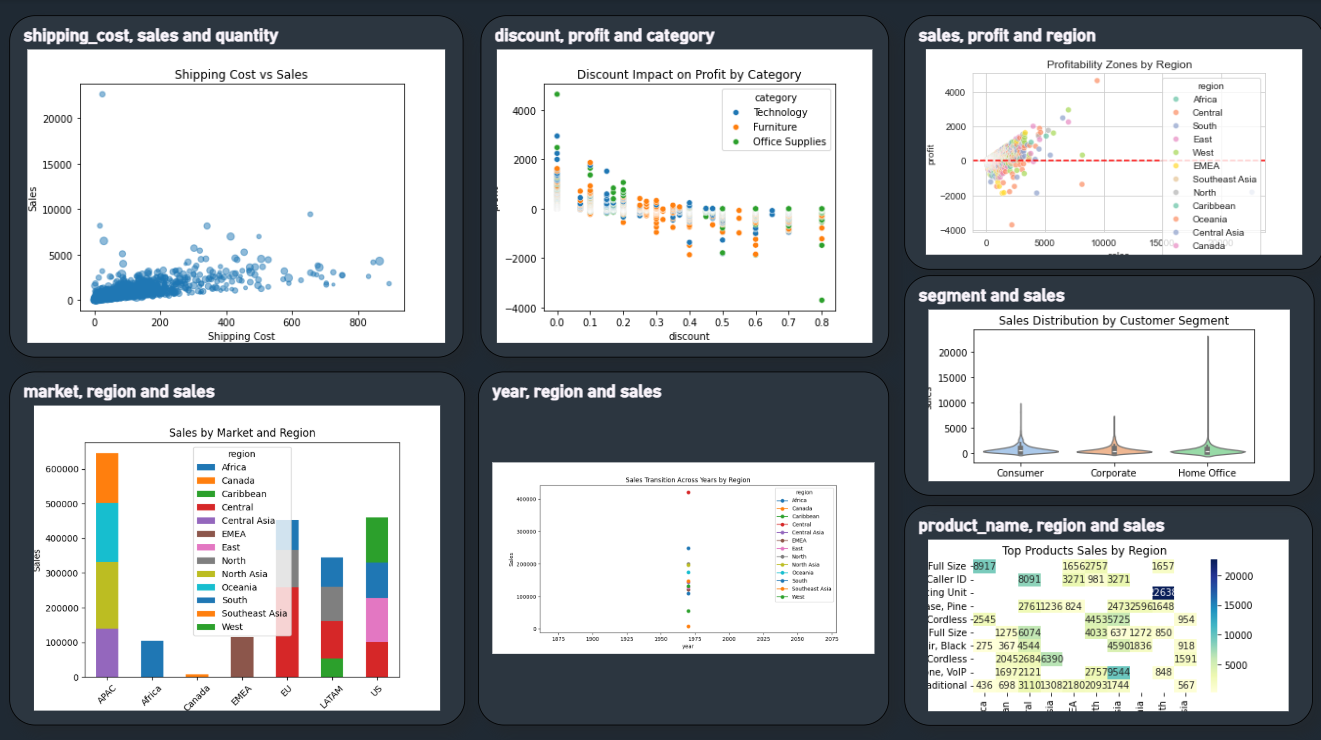

Layout of this report page (visuals, bound fields, positions):
{"tool":"powerbi","page":{"name":"Page 2","canvas":[1280,720],"ordinal":1},"visuals":[{"type":"pythonVisual","fields":{"Values":["superstore_db superstore.market","superstore_db superstore.region","superstore_db superstore.sales"]},"box":[11.4,360,440,341.4],"z":2000},{"type":"pythonVisual","fields":{"Values":["superstore_db superstore.shipping_cost","superstore_db superstore.sales","superstore_db superstore.quantity"]},"box":[11.4,15.7,438.6,330],"z":3000},{"type":"pythonVisual","fields":{"Values":["superstore_db superstore.discount","superstore_db superstore.profit","superstore_db superstore.category"]},"box":[465.7,15.7,394.3,330],"z":4000},{"type":"pythonVisual","fields":{"Values":["superstore_db superstore.product_name","superstore_db superstore.region","superstore_db superstore.sales"]},"box":[874.3,488.6,394.3,212.9],"z":5000},{"type":"pythonVisual","fields":{"Values":["superstore_db superstore.year","superstore_db superstore.region","superstore_db superstore.sales"]},"box":[462.9,360,397.1,341.4],"z":6000},{"type":"pythonVisual","fields":{"Values":["superstore_db superstore.sales","superstore_db superstore.profit","superstore_db superstore.region"]},"box":[874.3,15.7,405.7,245.7],"z":7000},{"type":"pythonVisual","fields":{"Values":["superstore_db superstore.segment","superstore_db superstore.sales"]},"box":[874.3,267.1,395.7,212.9],"z":8000}]}

Visuals, with their boxes in screenshot pixels (x1, y1, x2, y2), scaled from the page's 1280x720 canvas onto the 1321x740 screenshot:
pythonVisual - superstore_db superstore.market x superstore_db superstore.region: (x1=12, y1=370, x2=466, y2=721)
pythonVisual - superstore_db superstore.shipping_cost x superstore_db superstore.sales: (x1=12, y1=16, x2=464, y2=355)
pythonVisual - superstore_db superstore.discount x superstore_db superstore.profit: (x1=481, y1=16, x2=888, y2=355)
pythonVisual - superstore_db superstore.product_name x superstore_db superstore.region: (x1=902, y1=502, x2=1309, y2=721)
pythonVisual - superstore_db superstore.year x superstore_db superstore.region: (x1=478, y1=370, x2=888, y2=721)
pythonVisual - superstore_db superstore.sales x superstore_db superstore.profit: (x1=902, y1=16, x2=1320, y2=269)
pythonVisual - superstore_db superstore.segment x superstore_db superstore.sales: (x1=902, y1=275, x2=1311, y2=493)
